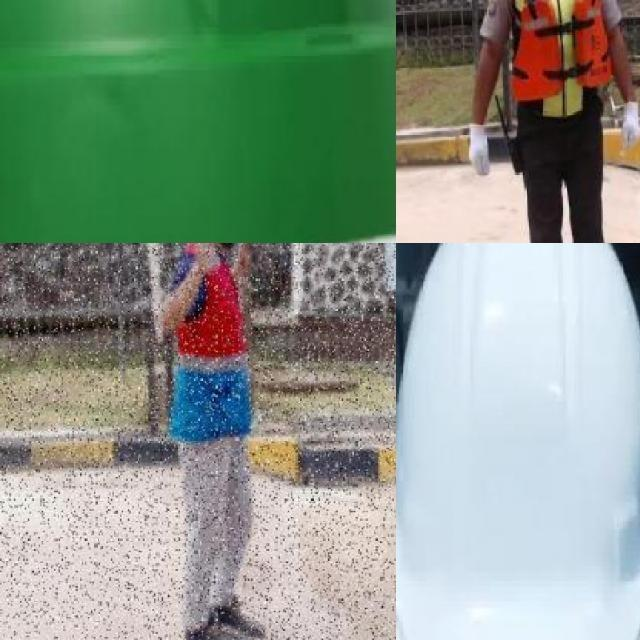apron: (464, 120, 496, 182), (616, 97, 640, 154)
